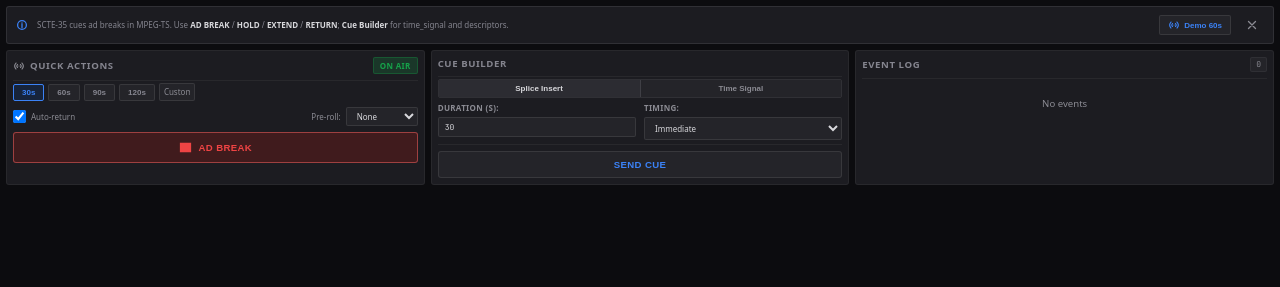
Scenario: SCTE35Panel › shows segmentation fields when Time Signal tab clicked
The width and height of the screenshot is (1280, 287).
# Click Time Signal tab
What coordinates should you click on to do the following:
click the button with class "adv-tab" showing "Time Signal"
I would click on:
 (741, 89)
Its box is x1=640 y1=80 x2=841 y2=97.
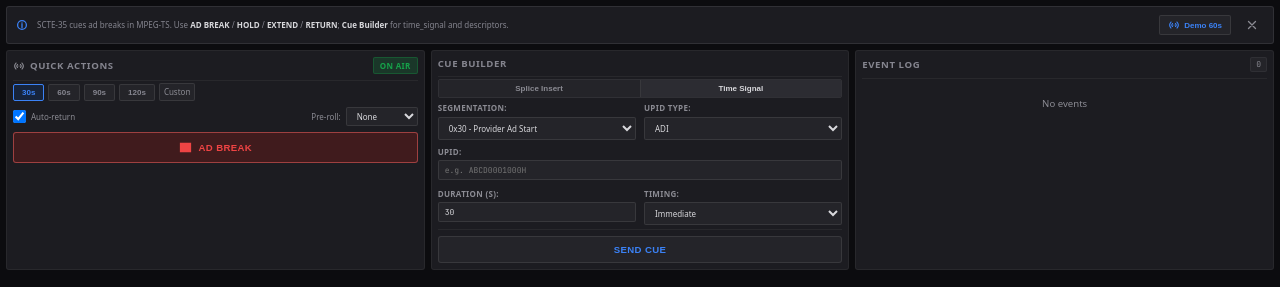
Check: the text "Segmentation:" is shown, box x1=438 y1=102 x2=636 y2=140
